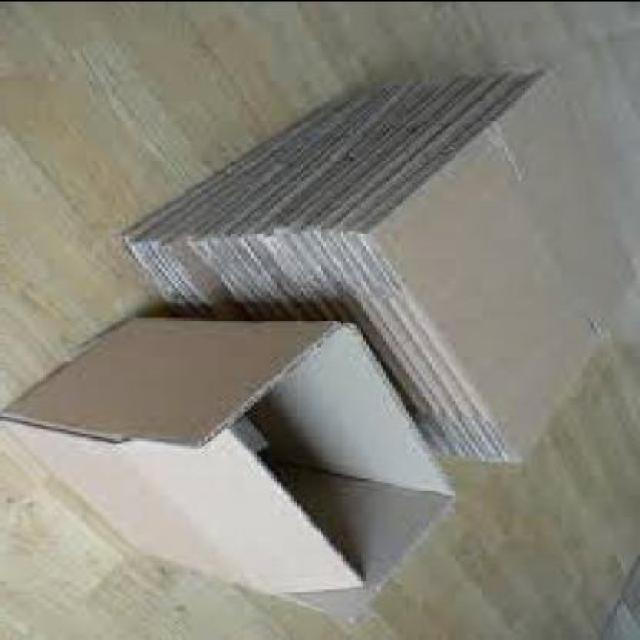CARDBOARD: (125, 70, 633, 455), (3, 311, 465, 615)
